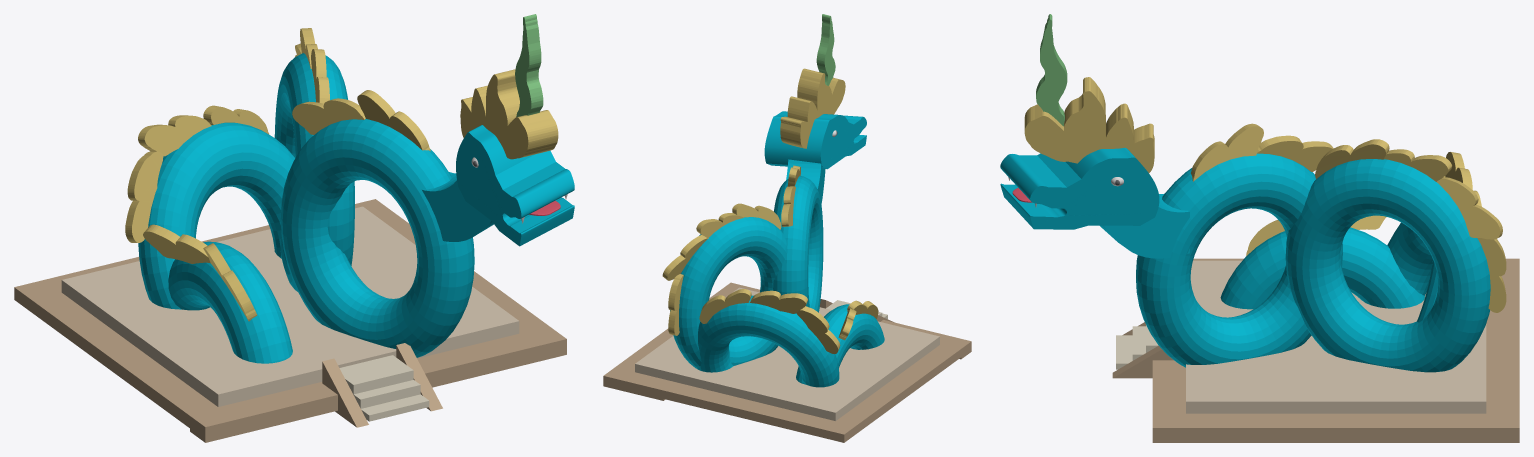
The model's file is Tham-Chaeng.glb.
The picture shows the model from 3 angles, left to right: view 1: azimuth 30°, elevation 25°; view 2: azimuth 150°, elevation 25°; view 3: azimuth 270°, elevation 25°; orthographic projection. The views are drawn at different scales.
Visible parts, largest first — view 1: Mesh_Mesh_head_geo.001_lambert2SG.001; view 2: Mesh_Mesh_head_geo.001_lambert2SG.001; view 3: Mesh_Mesh_head_geo.001_lambert2SG.001.
Boxes of the visible parts, x1,y1,x2,y2 form: Mesh_Mesh_head_geo.001_lambert2SG.001: (14,14,574,442); Mesh_Mesh_head_geo.001_lambert2SG.001: (603,14,971,442); Mesh_Mesh_head_geo.001_lambert2SG.001: (1000,14,1519,442).
Bounding box in the file's own units: 0.12 × 0.128 × 0.1557.
